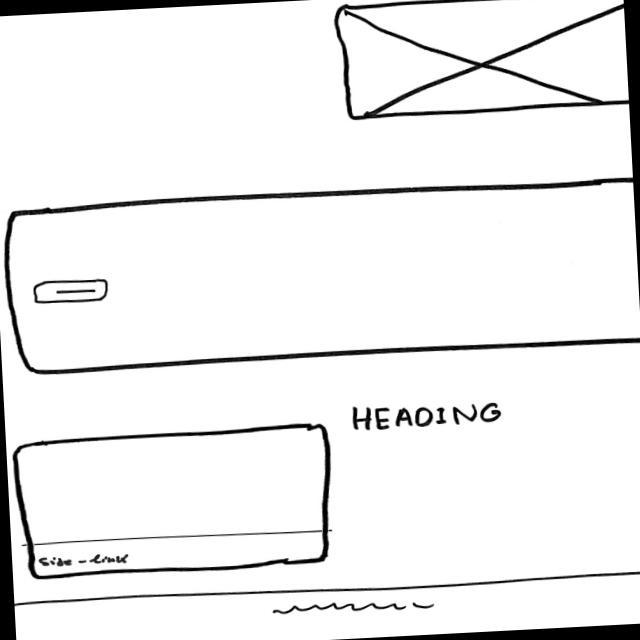container: (1, 175, 640, 378), (9, 421, 338, 584)
icon-button: (32, 277, 110, 307)
image: (327, 1, 630, 125)
label: (349, 398, 506, 434), (39, 551, 134, 572)
text: (271, 598, 439, 621)
